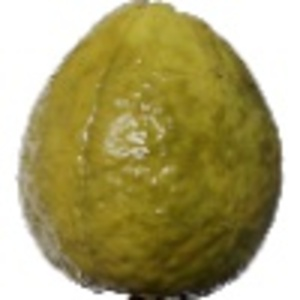goiaba: (9, 3, 289, 298)
